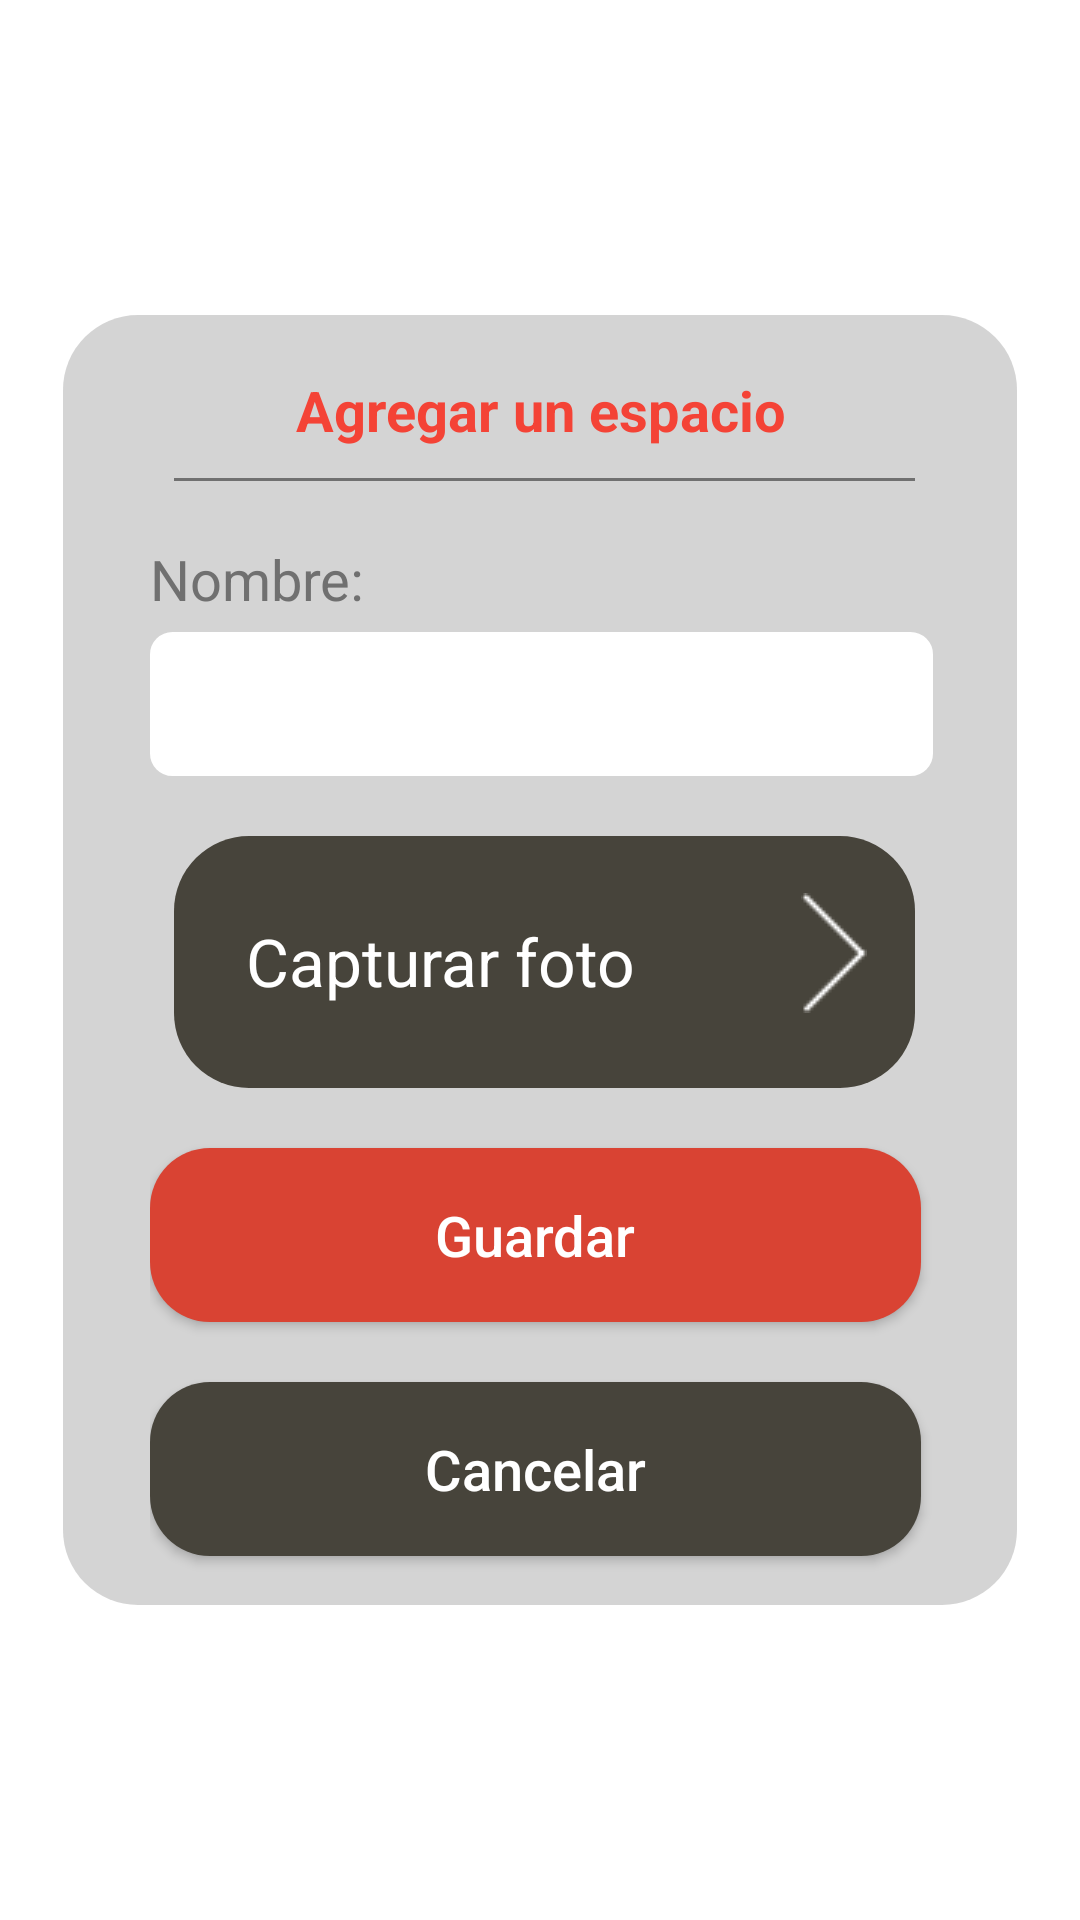

Icon click points for this 1080 × 1920 phone screenshot, format (x=x, y=y):
adelante: (x=834, y=953)
